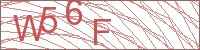5: (39, 5, 59, 34)
6: (64, 1, 84, 26)
F: (92, 18, 112, 46)
W: (11, 13, 45, 42)
